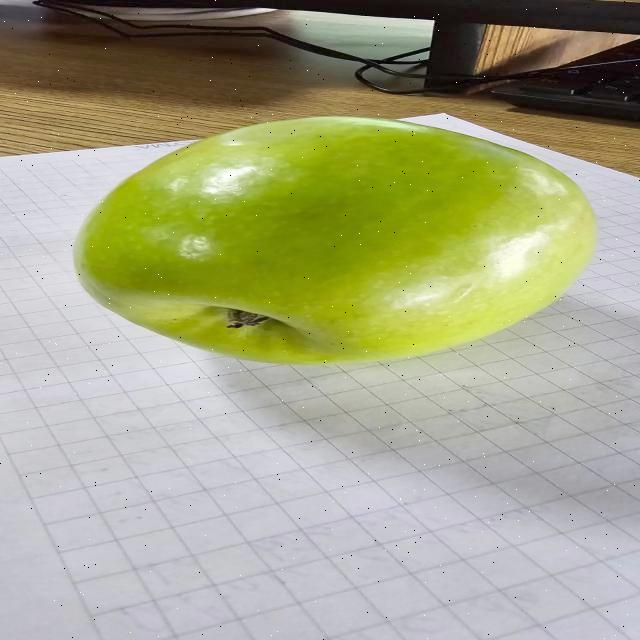Apel Granny Smith: (62, 109, 602, 369)
